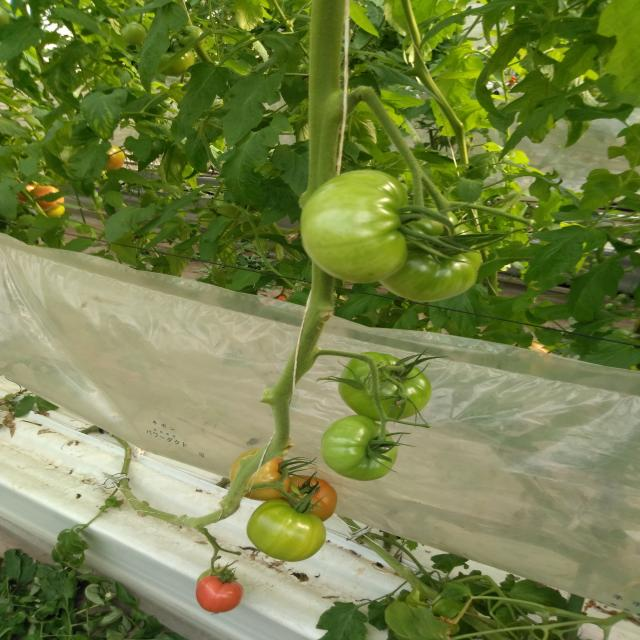yesil: (256, 120, 507, 309), (279, 358, 453, 477)
